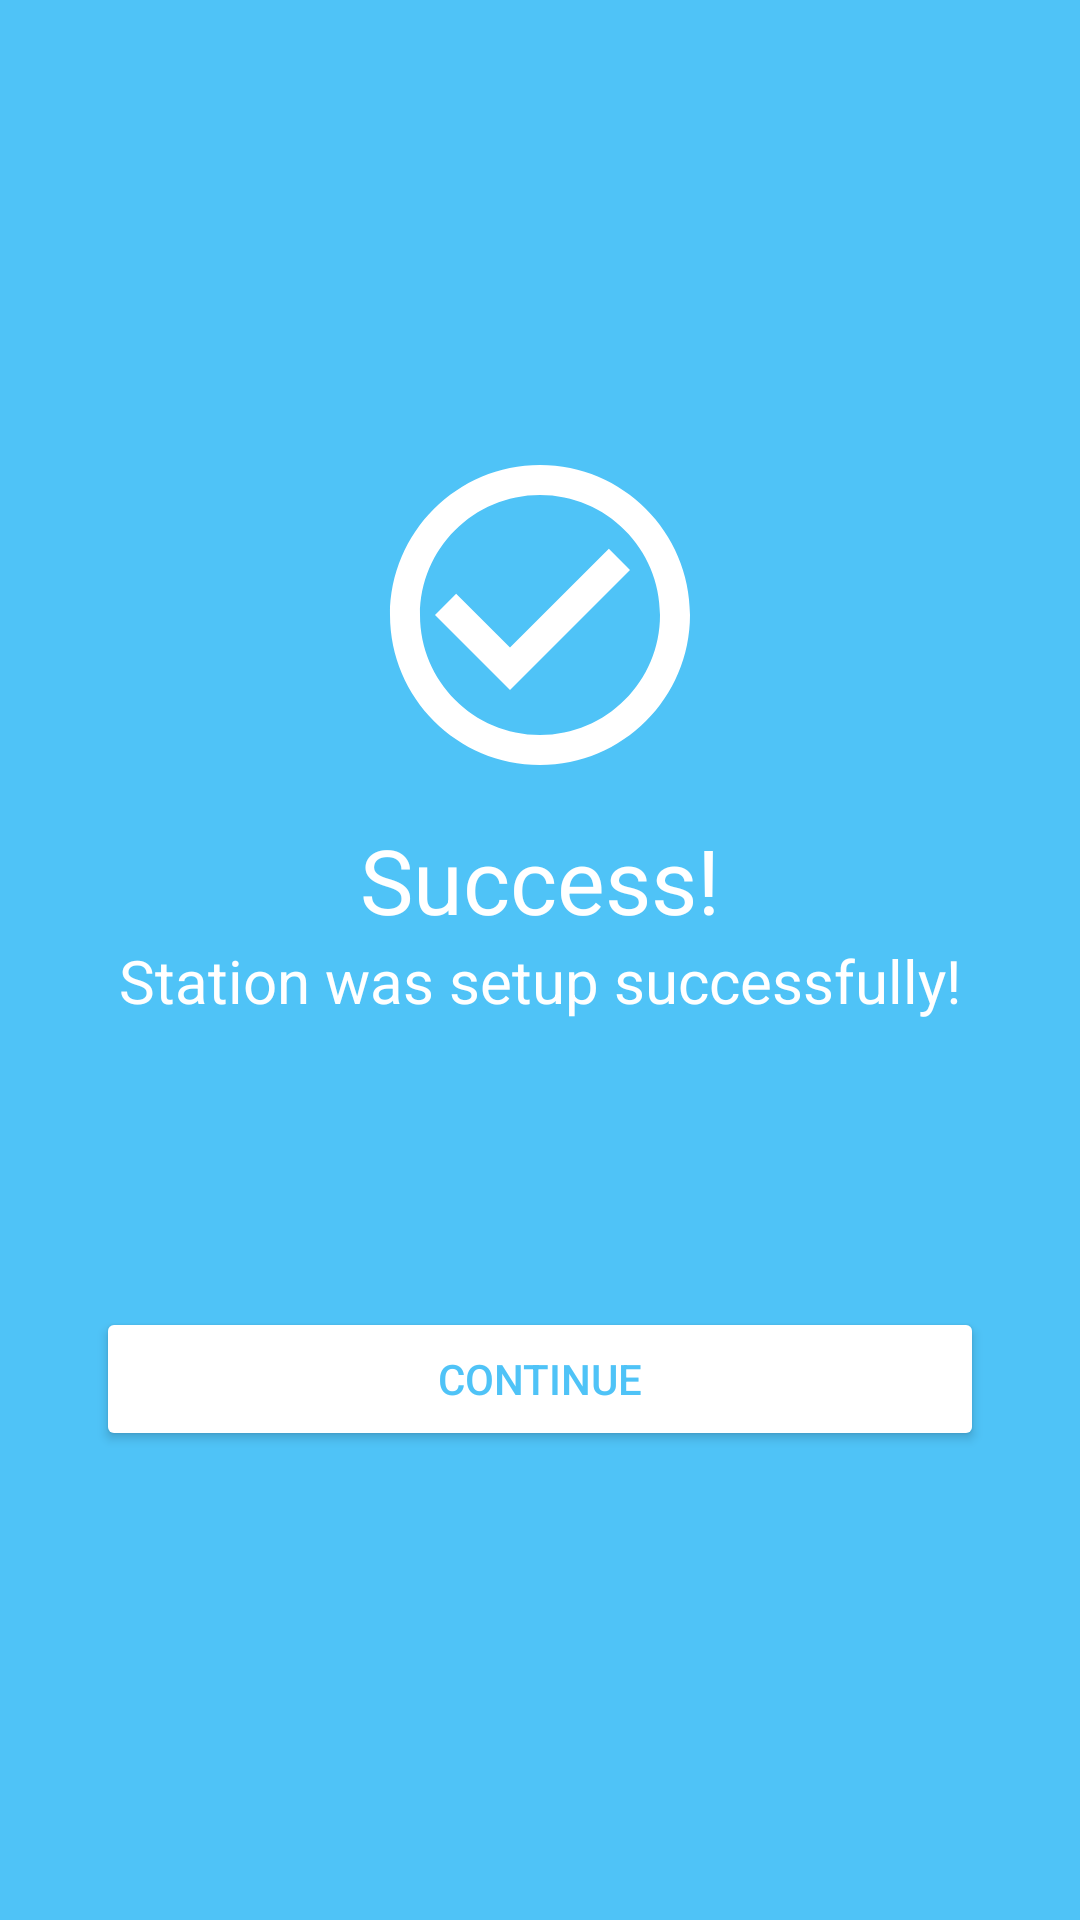

Where to tap for icons on this 1080*1920 app screen, as [x,y]:
check circle: [540,615]
